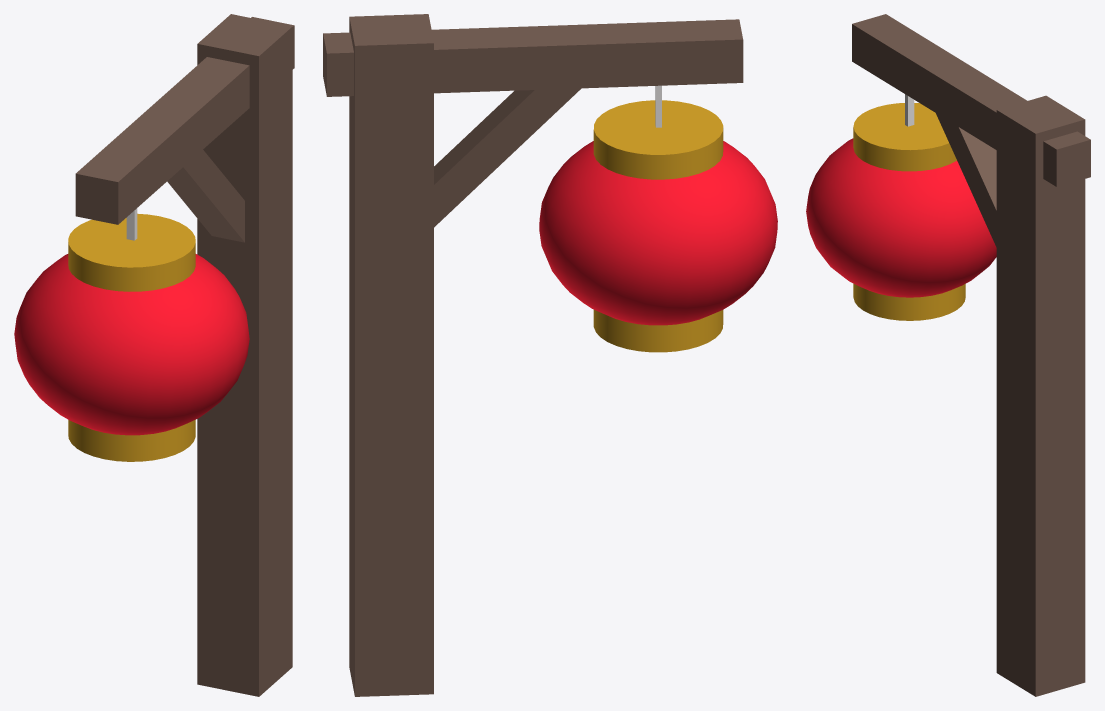
The model's file is lantern.glb.
3 views of the same model, side by side, from view 1: azimuth 30°, elevation 25°; view 2: azimuth 150°, elevation 25°; view 3: azimuth 270°, elevation 25° (orthographic). The views are drawn at different scales.
Visible parts, largest first — view 1: Cube.001, Sphere, Cube.002, Cylinder, Cube.003, Cylinder.001; view 2: Cube.001, Sphere, Cube.002, Cylinder, Cube.003, Cylinder.001; view 3: Cube.001, Sphere, Cube.002, Cylinder, Cube.003, Cylinder.001.
Boxes of the visible parts, bbox=[...] form: Cube.001: bbox=[197, 14, 292, 696]; Sphere: bbox=[14, 254, 249, 435]; Cube.002: bbox=[75, 17, 294, 224]; Cylinder: bbox=[68, 213, 195, 291]; Cube.003: bbox=[167, 150, 244, 242]; Cylinder.001: bbox=[68, 420, 195, 461]; Cube.001: bbox=[349, 14, 433, 696]; Sphere: bbox=[539, 141, 777, 325]; Cube.002: bbox=[323, 19, 743, 96]; Cylinder: bbox=[593, 100, 723, 179]; Cube.003: bbox=[434, 88, 581, 227]; Cylinder.001: bbox=[593, 310, 723, 352]; Cube.001: bbox=[996, 95, 1085, 696]; Sphere: bbox=[806, 138, 996, 297]; Cube.002: bbox=[852, 14, 1090, 186]; Cylinder: bbox=[853, 103, 956, 171]; Cube.003: bbox=[936, 113, 996, 247]; Cylinder.001: bbox=[853, 283, 965, 320].
Bounding box in the file's own units: 1.46 × 2.57 × 1.18.
